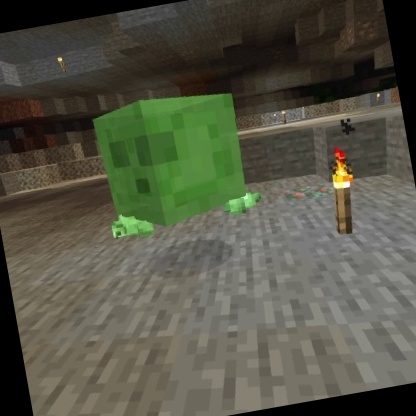slime: (86, 80, 257, 239)
